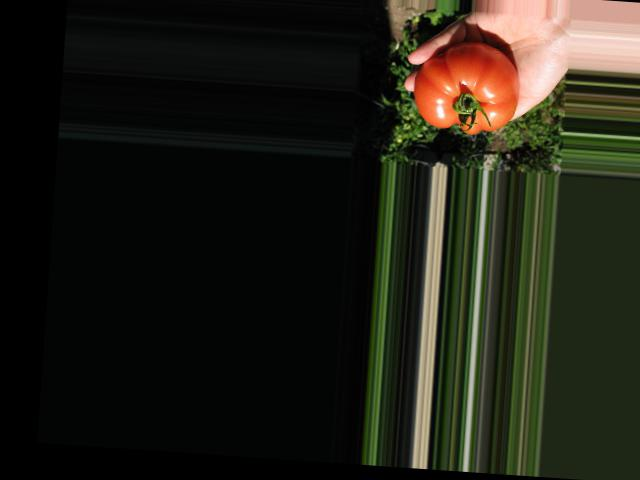tomato: (410, 39, 521, 136)
